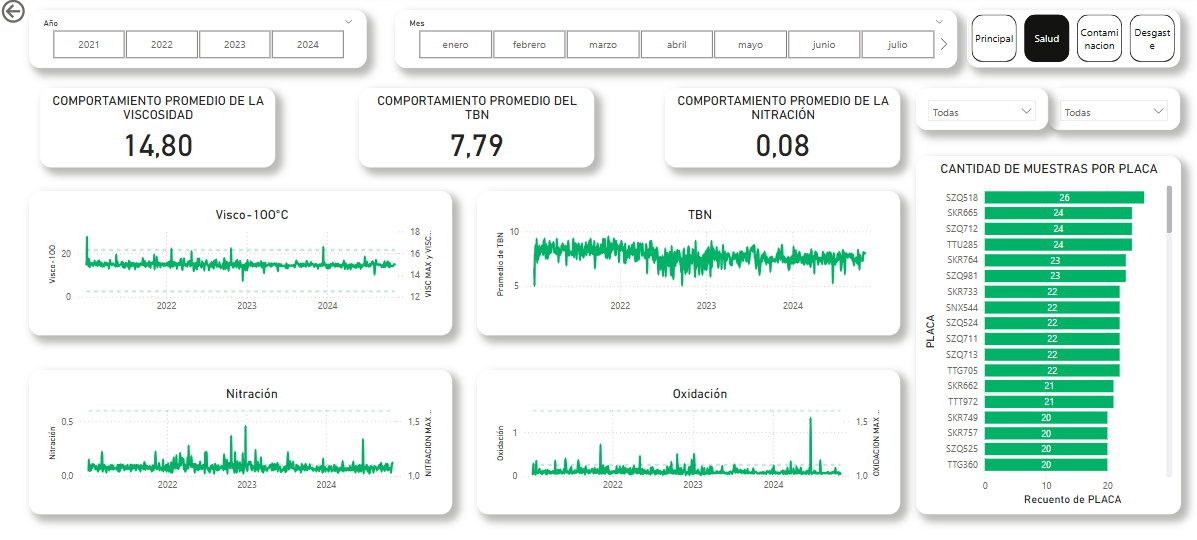

The dashboard page shown, as its layout file describes it:
{"tool":"powerbi","page":{"name":"Salud","canvas":[1580,720],"ordinal":1},"visuals":[{"type":"slicer","fields":{"Values":["Historial.FECHA DE TOMA .Variación.Jerarquía de fechas.Año"]},"box":[40.3,18.5,441.8,75.6],"z":0},{"type":"slicer","fields":{"Values":["Historial.FECHA DE TOMA .Variación.Jerarquía de fechas.Mes"]},"box":[519.1,18.5,735.7,75.6],"z":1000},{"type":"pageNavigator","box":[1269.1,18.7,278.6,74.8],"z":2000},{"type":"barChart","title":"CANTIDAD DE MUESTRAS POR PLACA","fields":{"Category":["Historial.PLACA "],"Y":["CountNonNull(Historial.PLACA )"]},"box":[1201.1,209,346.6,468.9],"z":3000},{"type":"lineChart","title":"Visco-1OO°C","fields":{"Y":["Avg(Historial.Visco-1OO)"],"Category":["Historial.FECHA DE TOMA "],"Y2":["Avg(LIMITES.VISC_MAX)","Avg(LIMITES.VISC_MIN)"]},"box":[40.8,254.8,553.8,188.6],"z":4000},{"type":"lineChart","title":"TBN","fields":{"Y":["Avg(Historial.TBN)"],"Category":["Historial.FECHA DE TOMA "]},"box":[626.9,254.8,553.8,188.6],"z":5000},{"type":"lineChart","title":"Nitración","fields":{"Y":["Avg(Historial.Nitración)"],"Category":["Historial.FECHA DE TOMA "],"Y2":["Avg(LIMITES.NITRACION_MAX)","Avg(LIMITES.NITRACION_MIN)"]},"box":[40.8,489.3,553.8,188.6],"z":6000},{"type":"lineChart","title":"Oxidación","fields":{"Y":["Avg(Historial.Oxidación)"],"Category":["Historial.FECHA DE TOMA "],"Y2":["Avg(LIMITES.OXIDACION_MAX)","Avg(LIMITES.OXIDACION_MIN)"]},"box":[626.9,489.3,553.8,188.6],"z":7000},{"type":"slicer","fields":{"Values":["Historial.PLACA "]},"box":[1375,120,173.3,55],"z":8000},{"type":"card","title":"COMPORTAMIENTO PROMEDIO DE LA VISCOSIDAD","fields":{"Values":["Avg(Historial.Visco-1OO)"]},"box":[54.4,120.6,307.5,103.6],"z":9000},{"type":"card","title":"COMPORTAMIENTO PROMEDIO DEL TBN","fields":{"Values":["Avg(Historial.TBN)"]},"box":[472.3,120.6,307.5,103.6],"z":10000},{"type":"card","title":"COMPORTAMIENTO PROMEDIO DE LA NITRACIÓN","fields":{"Values":["Avg(Historial.Nitración)"]},"box":[873.2,120.6,307.5,103.6],"z":11000},{"type":"actionButton","box":[0,0,100,40],"z":12000},{"type":"slicer","fields":{"Values":["Historial.ESTADO "]},"box":[1201.7,120,173.3,55],"z":12001}]}

Visuals, with their boxes in screenshot pixels (x1, y1, x2, y2), scaled from the page's 1580x720 canvas onto the 1197x540 screenshot:
slicer - Historial.FECHA DE TOMA .Variación.Jerarquía de fechas.Año: [left=31, top=14, right=365, bottom=71]
slicer - Historial.FECHA DE TOMA .Variación.Jerarquía de fechas.Mes: [left=393, top=14, right=951, bottom=71]
pageNavigator: [left=961, top=14, right=1173, bottom=70]
"CANTIDAD DE MUESTRAS POR PLACA" barChart: [left=910, top=157, right=1173, bottom=508]
"Visco-1OO°C" lineChart: [left=31, top=191, right=450, bottom=333]
"TBN" lineChart: [left=475, top=191, right=894, bottom=333]
"Nitración" lineChart: [left=31, top=367, right=450, bottom=508]
"Oxidación" lineChart: [left=475, top=367, right=894, bottom=508]
slicer - Historial.PLACA : [left=1042, top=90, right=1173, bottom=131]
"COMPORTAMIENTO PROMEDIO DE LA VISCOSIDAD" card: [left=41, top=90, right=274, bottom=168]
"COMPORTAMIENTO PROMEDIO DEL TBN" card: [left=358, top=90, right=591, bottom=168]
"COMPORTAMIENTO PROMEDIO DE LA NITRACIÓN" card: [left=662, top=90, right=894, bottom=168]
actionButton: [left=0, top=0, right=76, bottom=30]
slicer - Historial.ESTADO : [left=910, top=90, right=1042, bottom=131]
